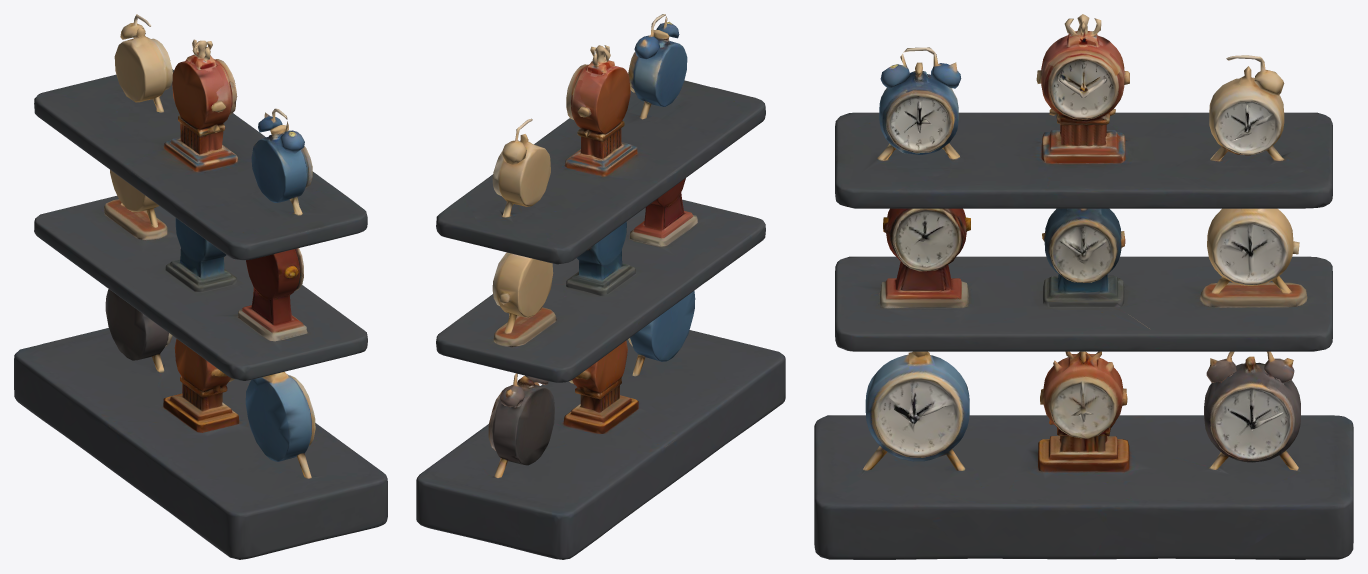
The model's file is clock3.fbx.
3 views of the same model, side by side, from view 1: azimuth 30°, elevation 25°; view 2: azimuth 150°, elevation 25°; view 3: azimuth 270°, elevation 25° (orthographic). The views are drawn at different scales.
Parts seen in each view (by area): view 1: tripo_node_f3377e98; view 2: tripo_node_f3377e98; view 3: tripo_node_f3377e98.
Boxes of the visible parts, left/top/right/bottom form: tripo_node_f3377e98: left=14, top=14, right=387, bottom=559; tripo_node_f3377e98: left=416, top=14, right=785, bottom=559; tripo_node_f3377e98: left=814, top=14, right=1353, bottom=559.
Bounding box in the file's own units: 0.3918 × 1 × 0.9723.
Materials: 1 (1 with a texture image).
